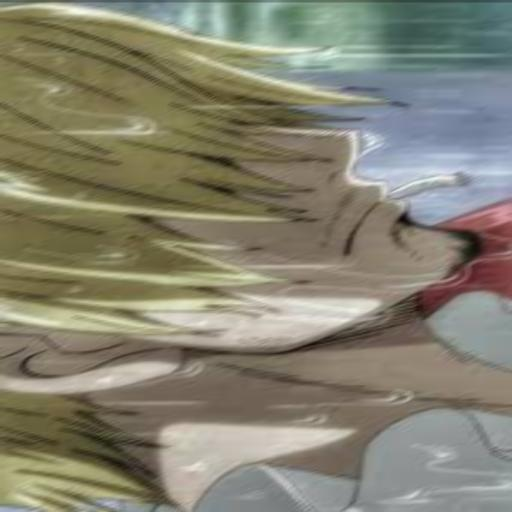sanji: (0, 0, 512, 507)
